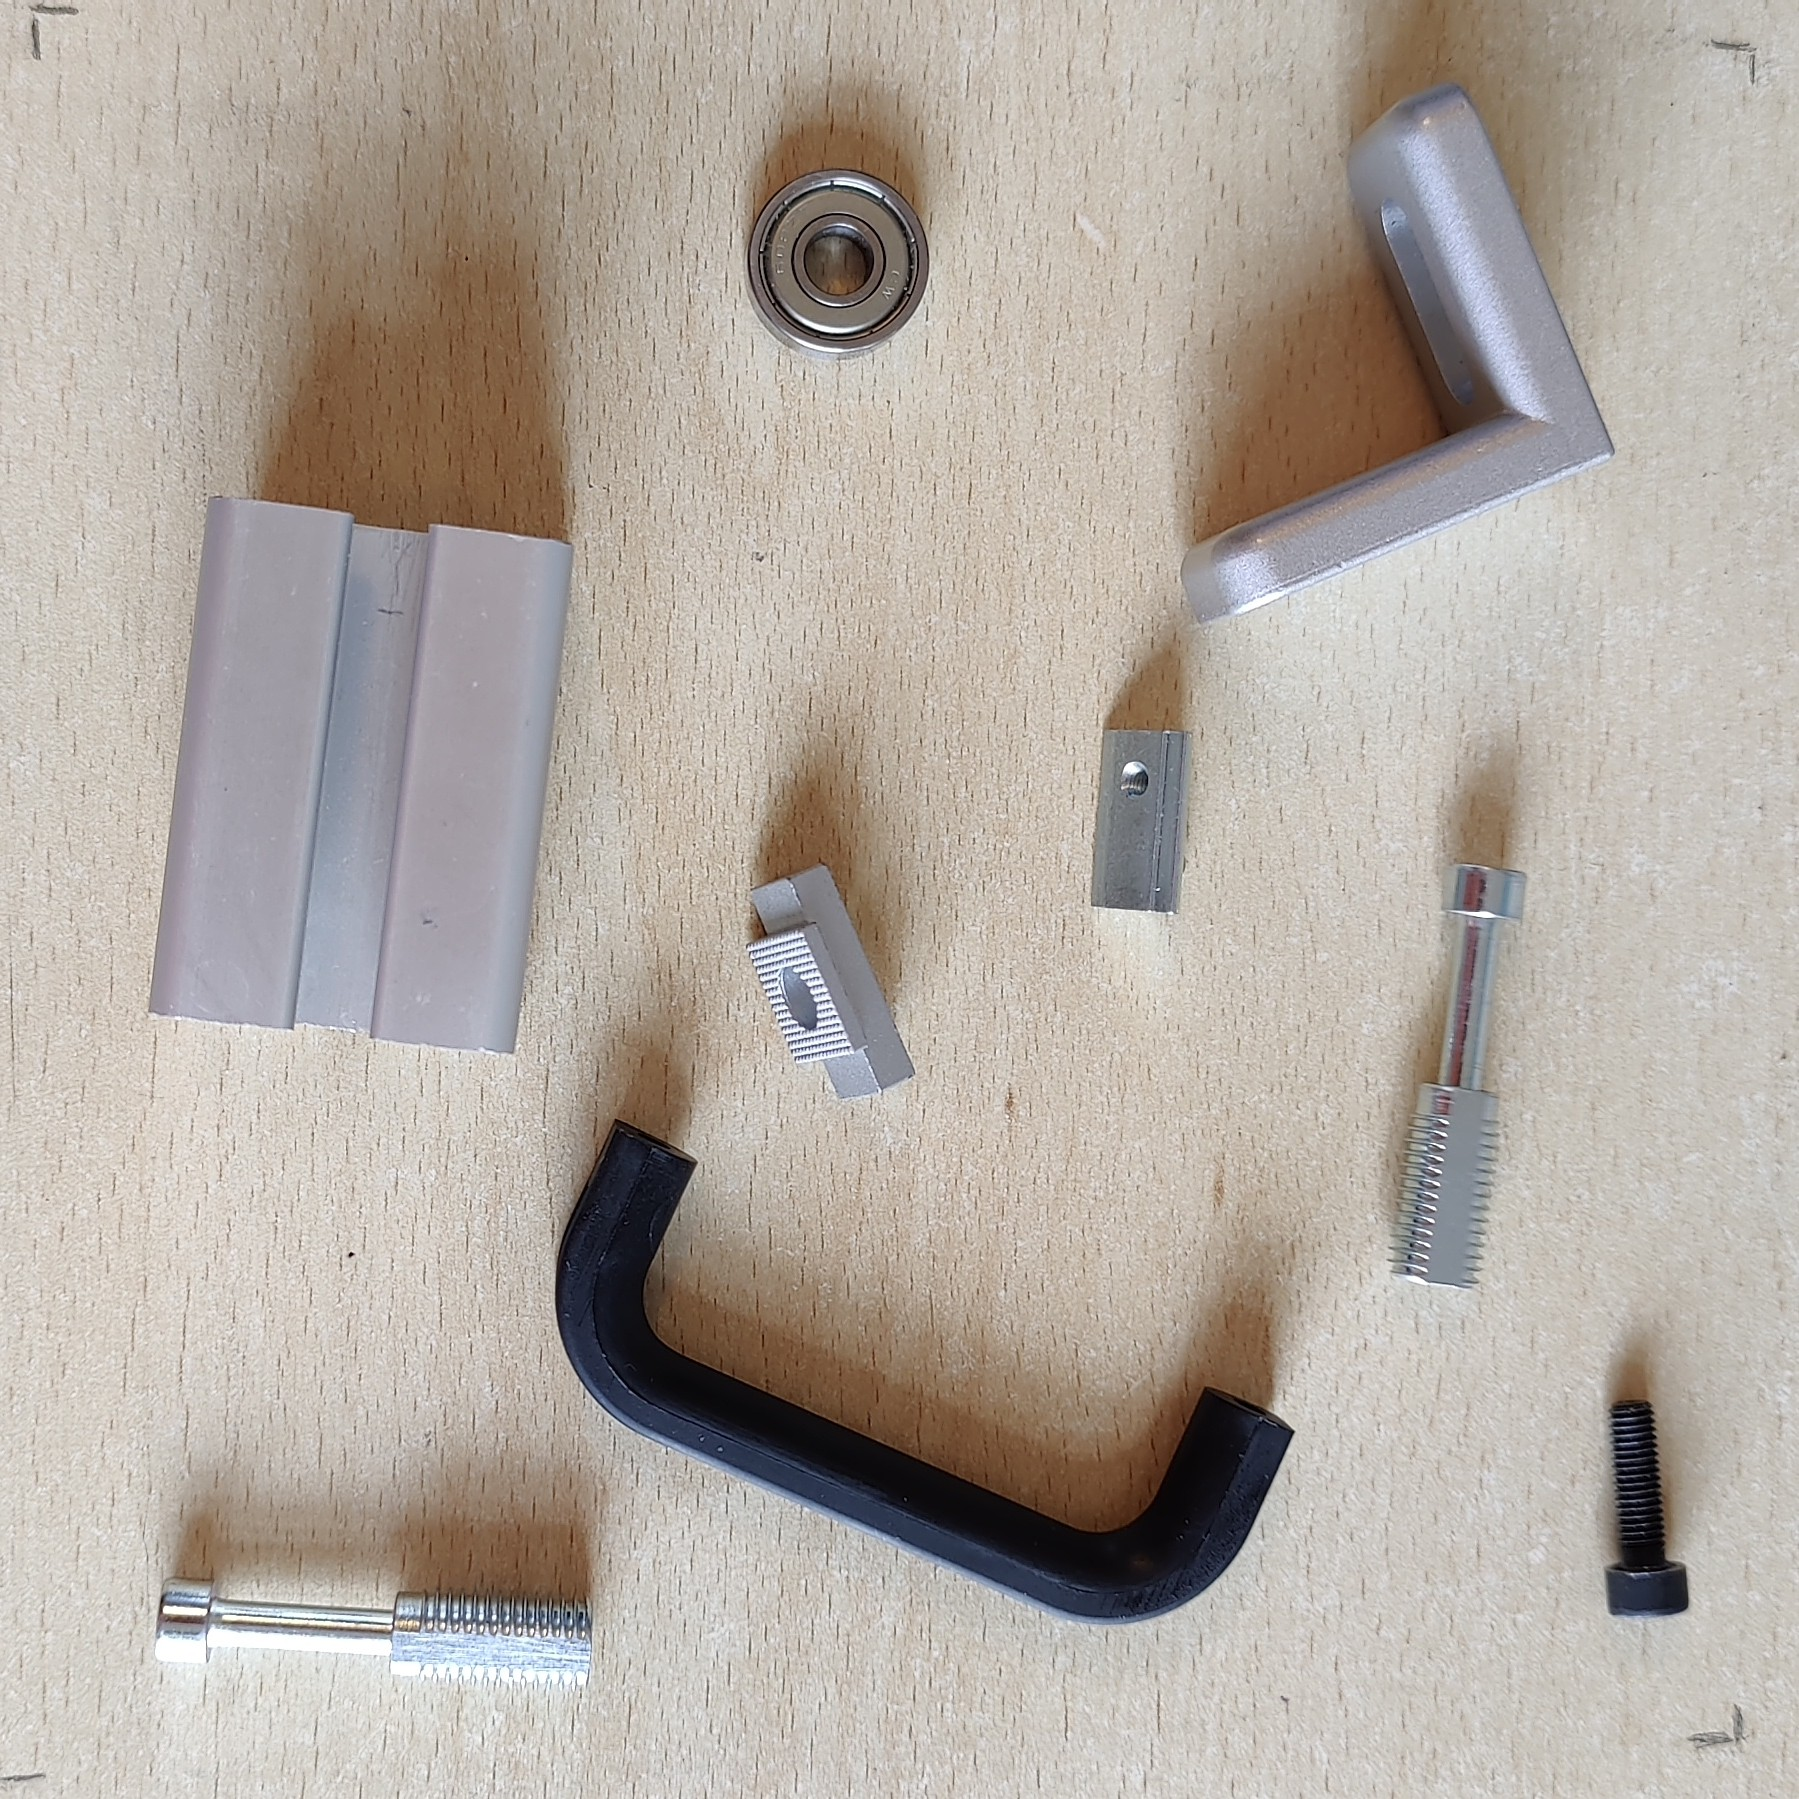Aluminium Extension: (147, 489, 577, 1058)
Ball Bearing: (743, 165, 931, 364)
Multiwinkel: (1180, 81, 1619, 629)
Pull Handle: (550, 1119, 1295, 1628)
Shoulder Socket Head Cap Screw: (1382, 862, 1530, 1297), (152, 1575, 595, 1695)
Socket Head Cap Screw: (1603, 1395, 1692, 1618)
T Nut Square: (745, 862, 918, 1102)
T Spring Nut: (1087, 727, 1196, 918)
